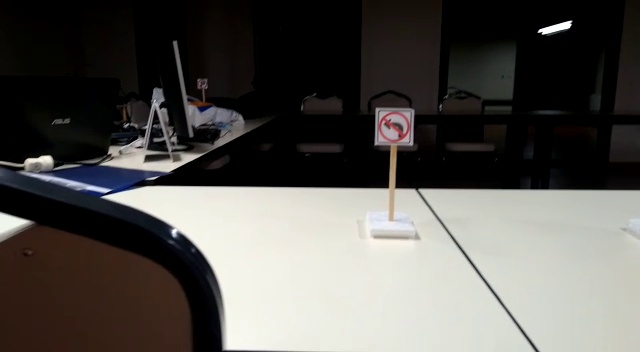sola_donulmez: (379, 111, 413, 144)
